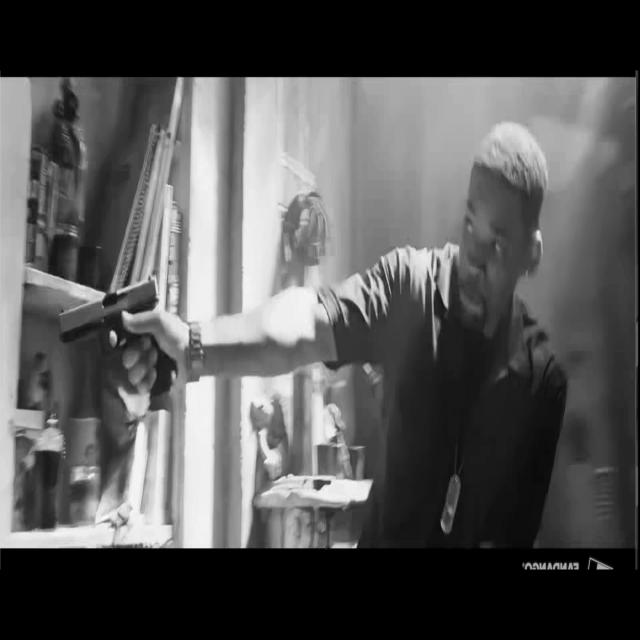weapons: (52, 250, 176, 417)
